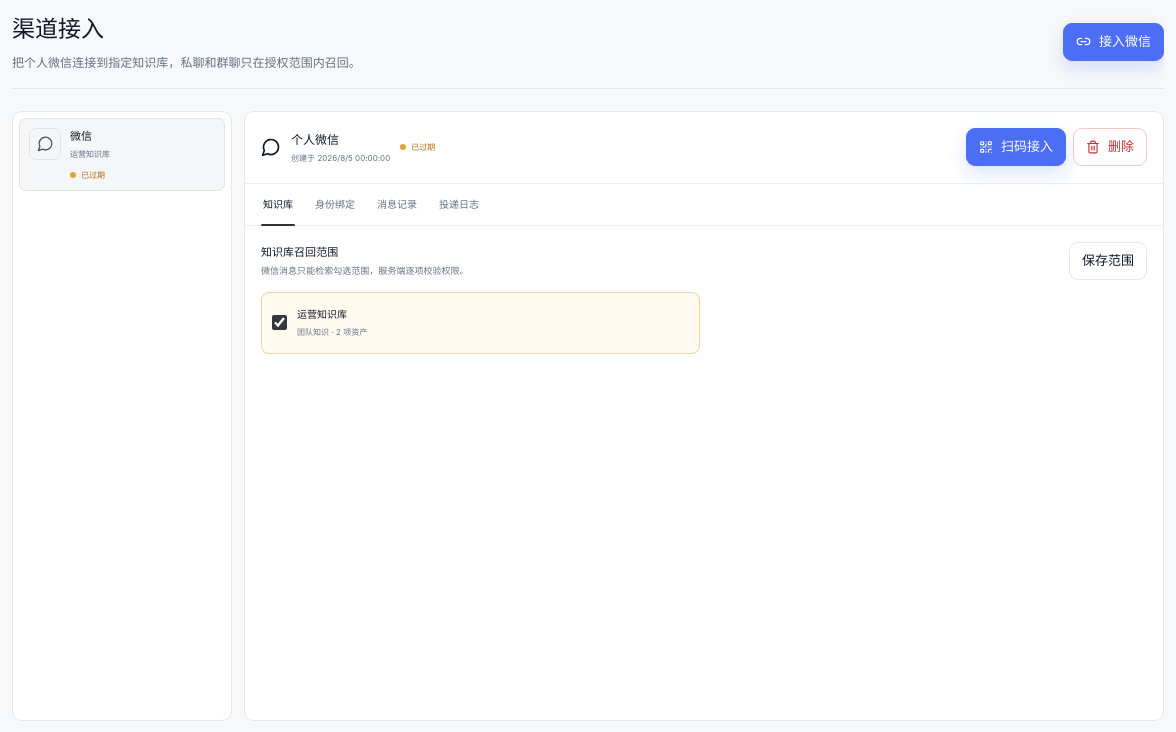
ChannelIntegrations › deletes an expired channel after explicit confirmation
This screenshot has width=1176, height=732.
What coordinates should you click on to do the following:
click the button "删除"
I would click on:
 (1110, 147)
Its box is [1073,128,1147,166].
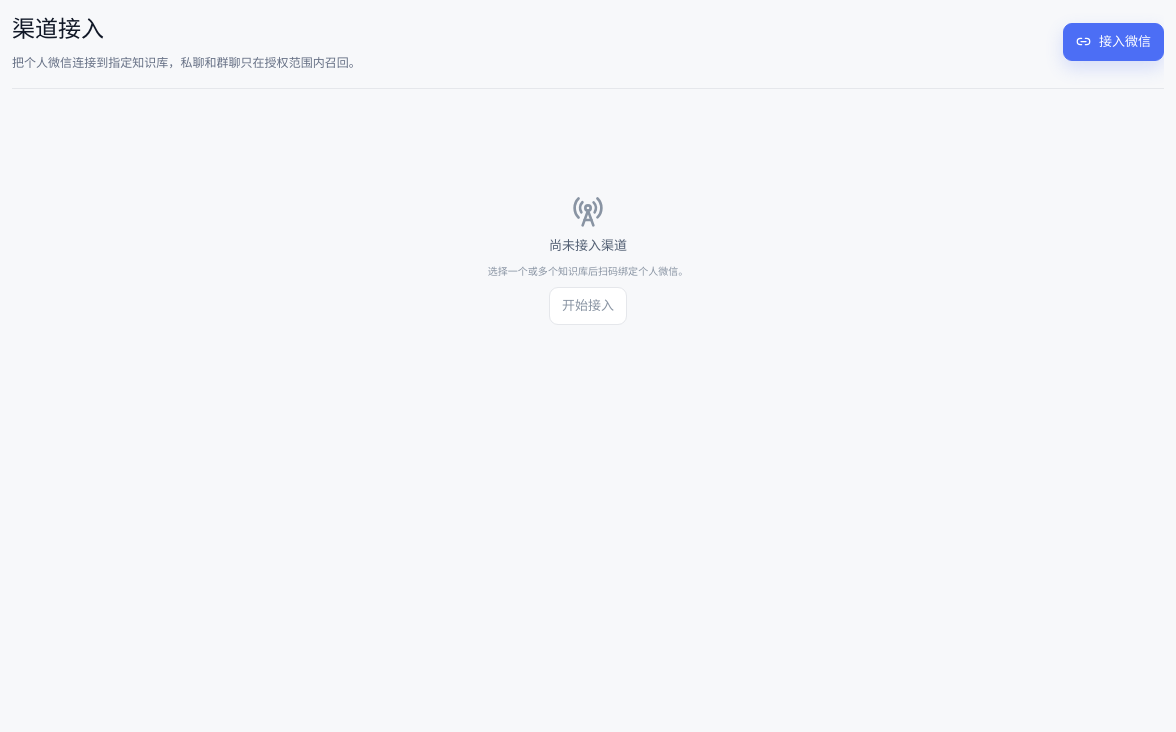
Now the text "尚未接入渠道" is shown, box [549,236,627,256]
